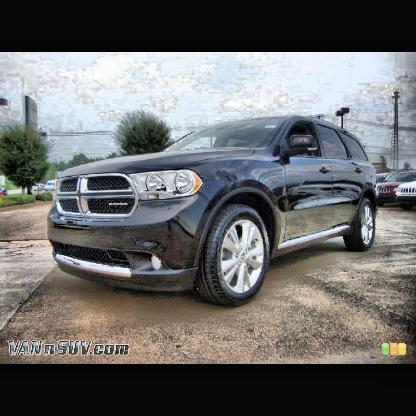Dodge Durango SUV 2012: (47, 113, 381, 309)
